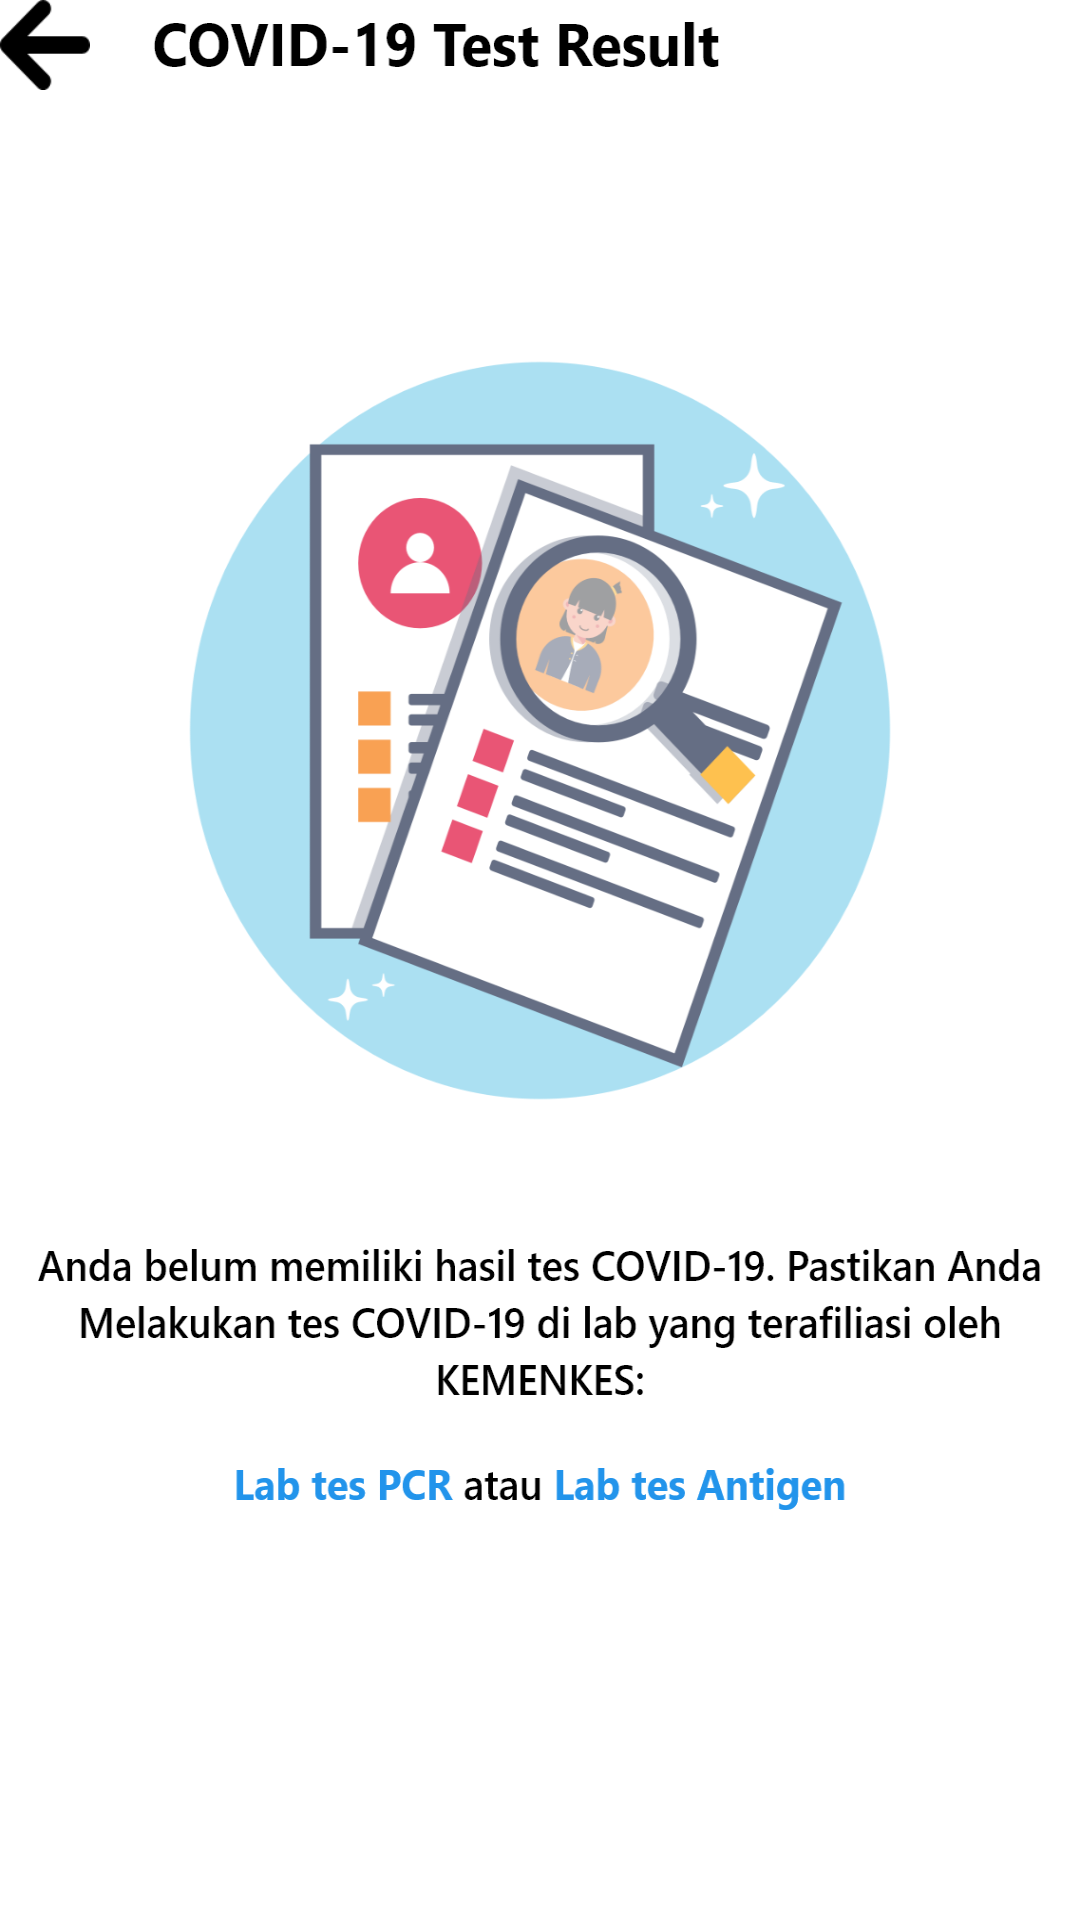

Where to tap for icons on this 1080 × 1920 app screen, as [x,y]:
back: [45,45]
